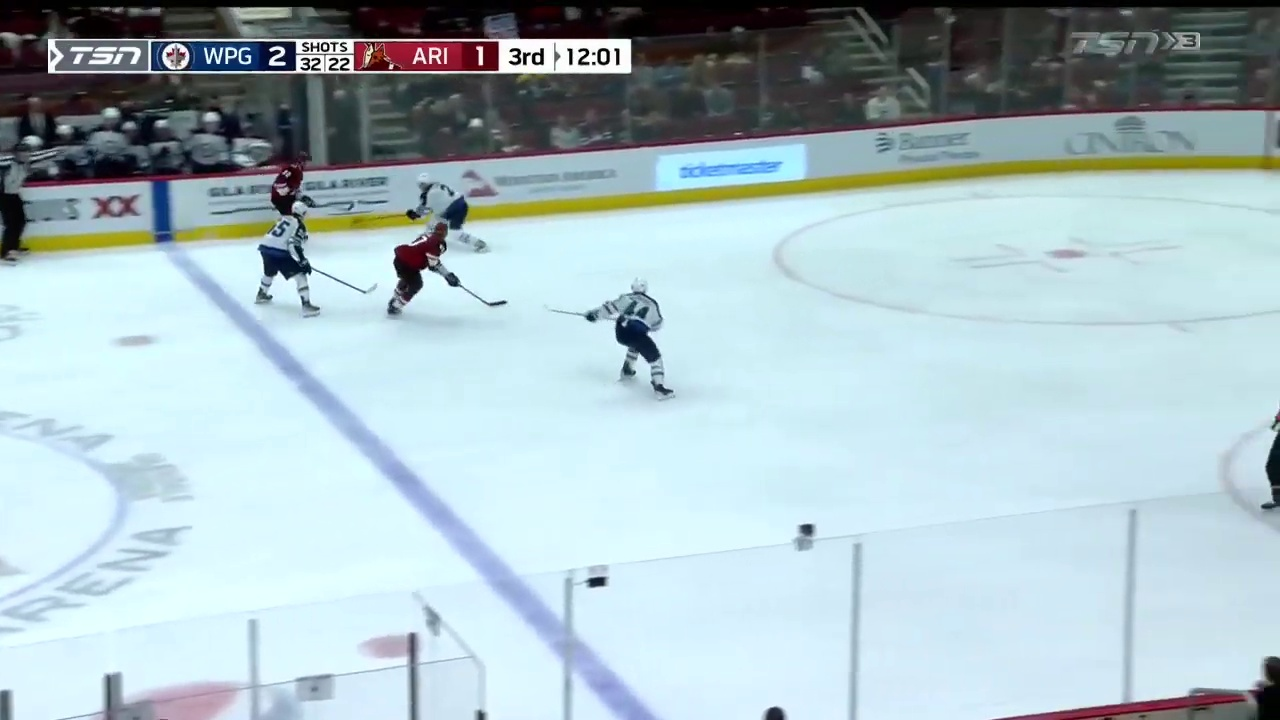hockeyplayer: (585, 277, 675, 401), (254, 201, 321, 318), (387, 222, 460, 318), (406, 172, 488, 253), (271, 151, 313, 242)
referee: (1, 145, 63, 266)
